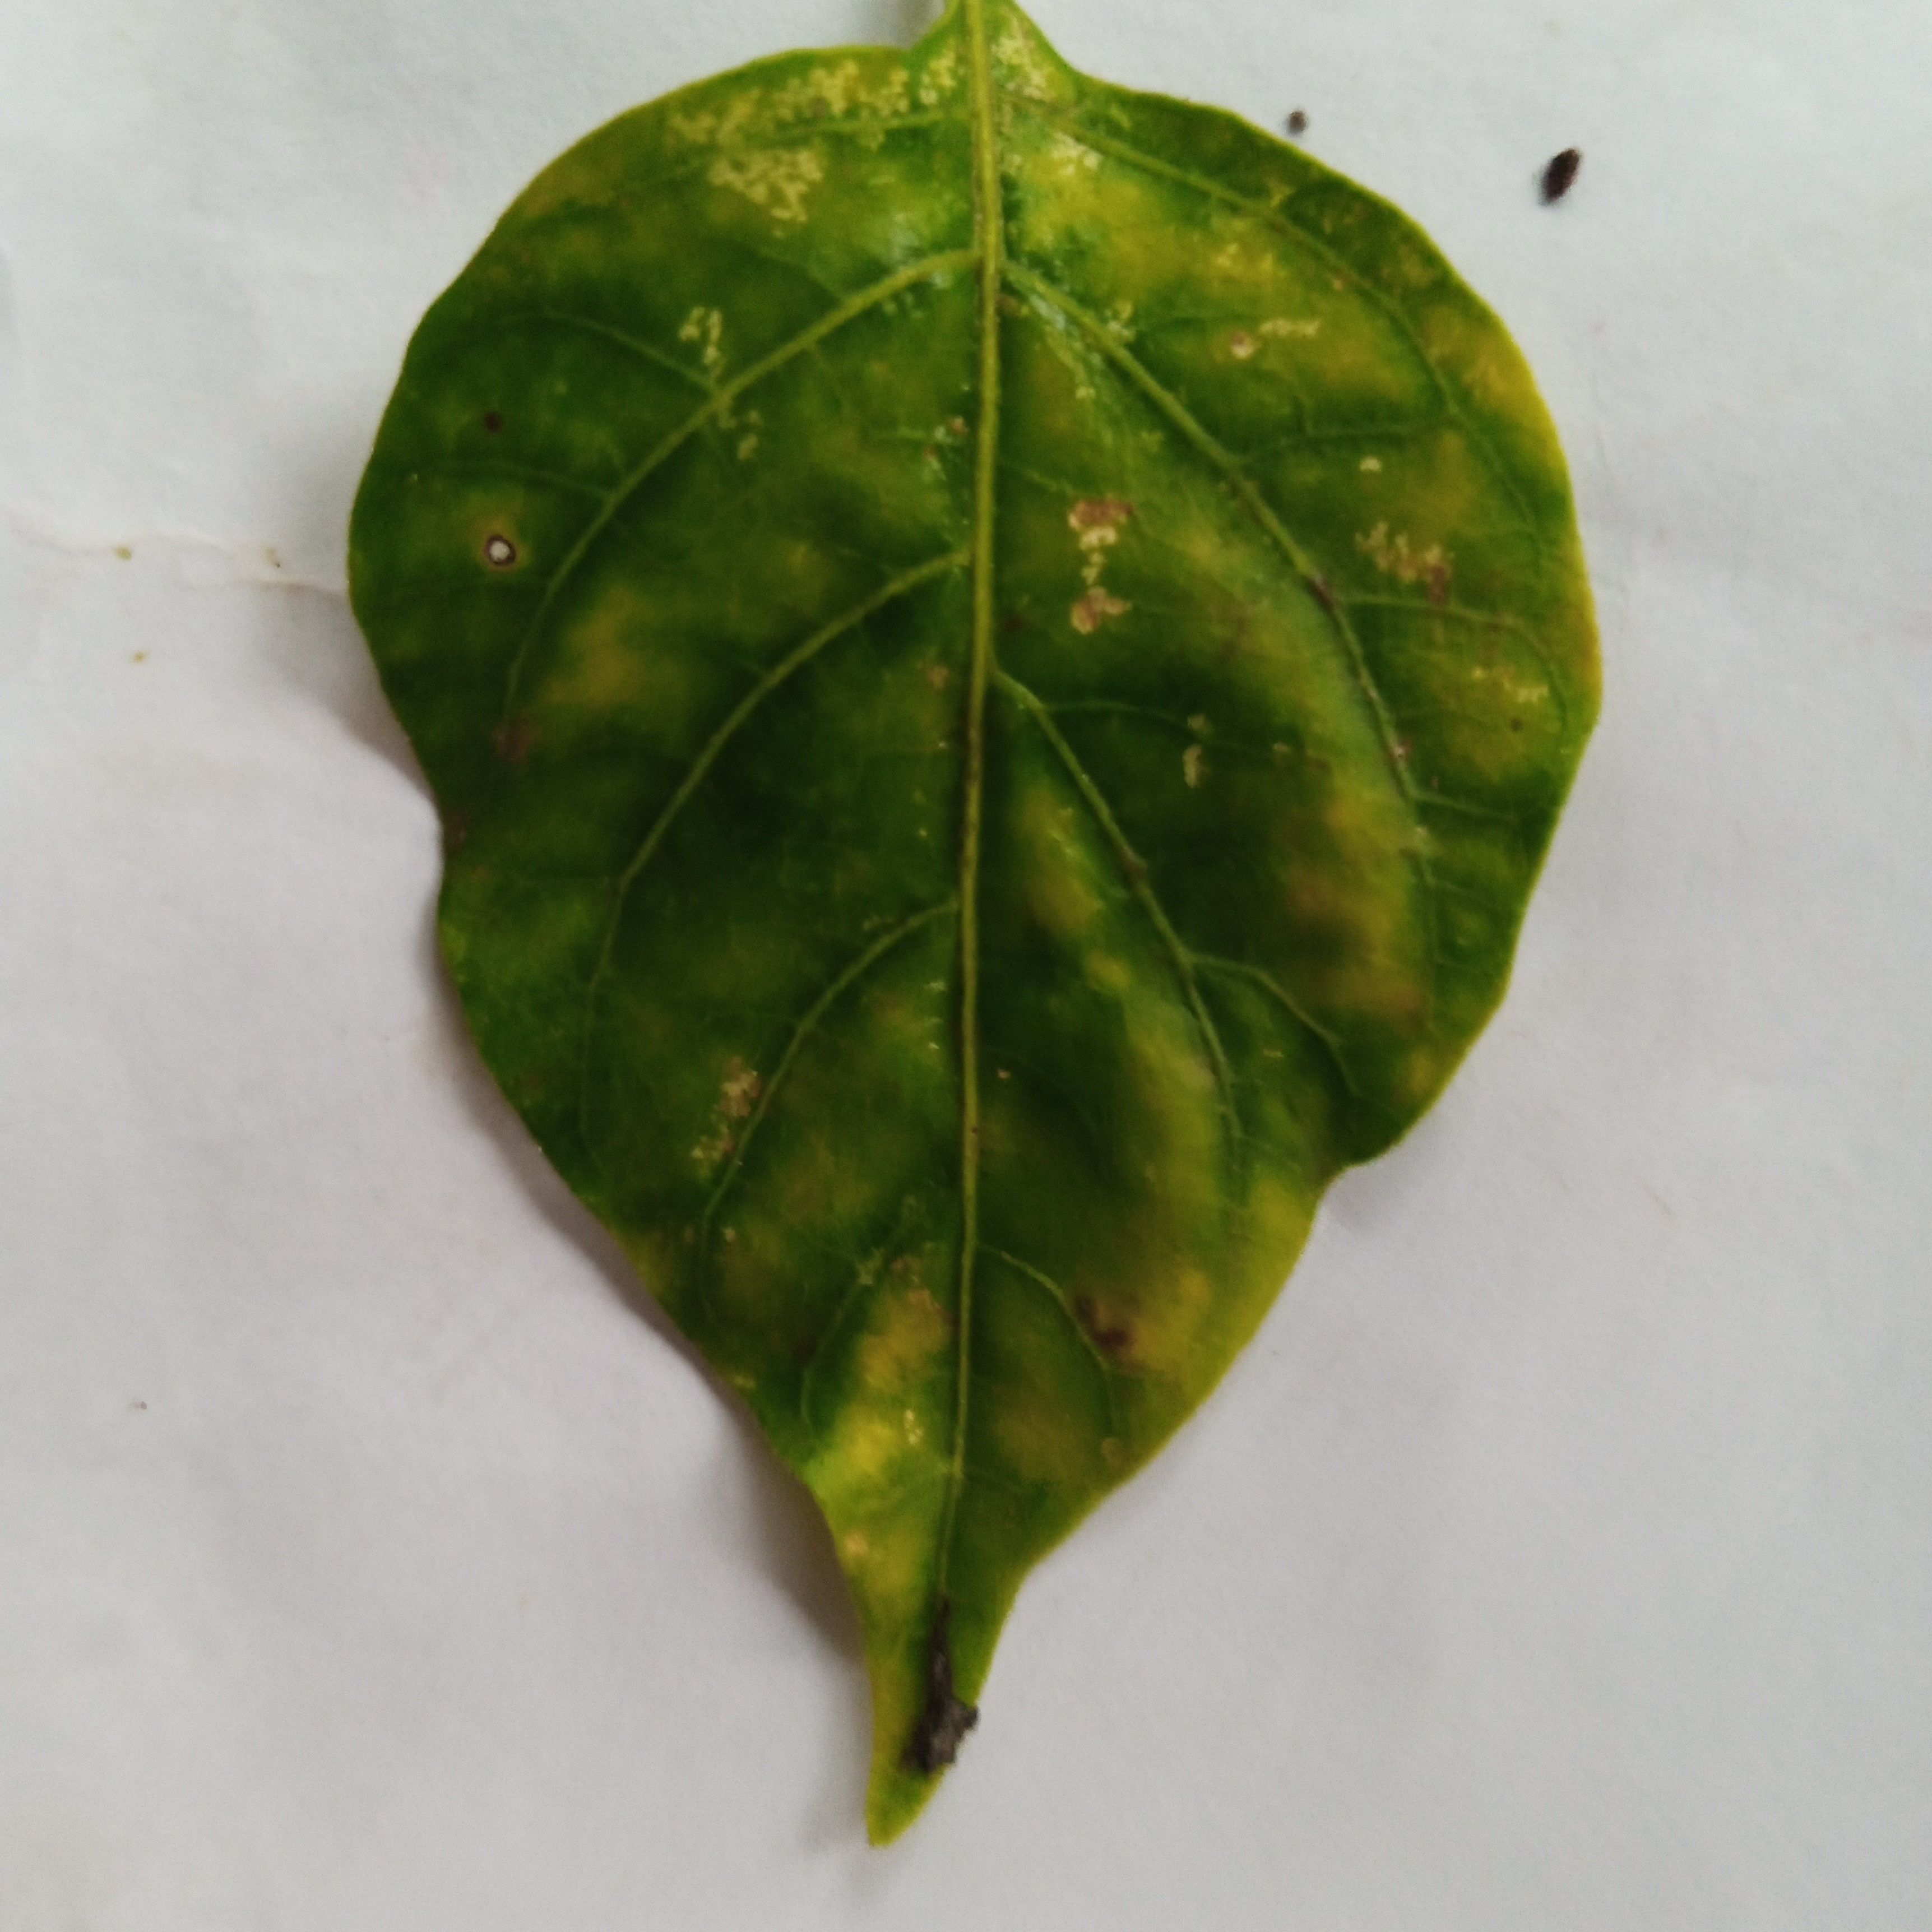Leaf: (237, 19, 1651, 1932)
